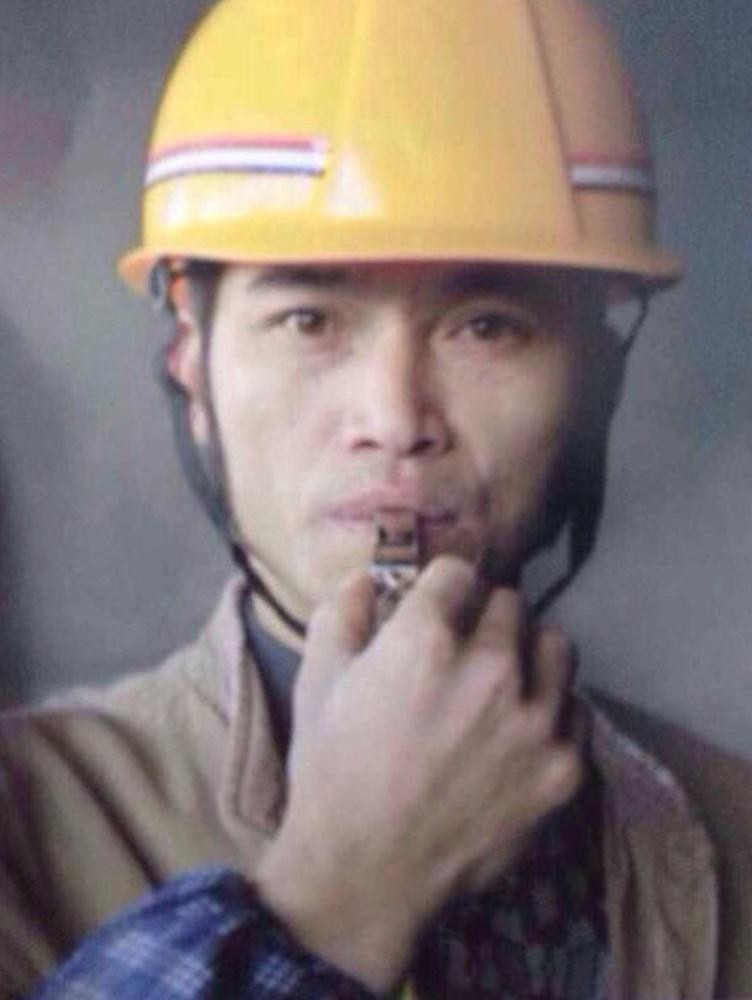helmet: (116, 1, 686, 318)
